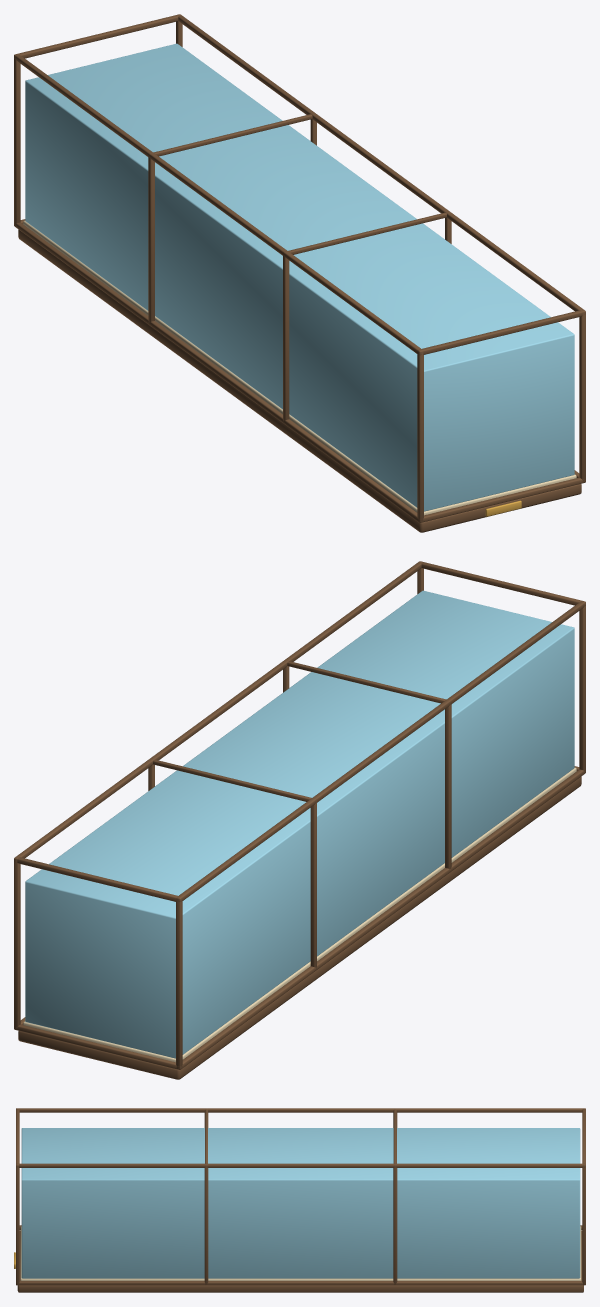
Rendered from long-tank.glb.
The picture shows the model from 3 angles, top to bottom: view 1: azimuth 30°, elevation 25°; view 2: azimuth 150°, elevation 25°; view 3: azimuth 270°, elevation 25°; orthographic projection. The views are drawn at different scales.
Parts seen in each view (by area): view 1: water, frame; view 2: water, frame; view 3: water, frame.
Boxes of the visible parts, box(x1,y1,x2,y2) form: water: box(23, 43, 576, 515); frame: box(14, 14, 585, 532); water: box(23, 590, 576, 1062); frame: box(14, 561, 585, 1079); water: box(20, 1128, 581, 1280); frame: box(14, 1108, 585, 1292).
Size of the model in its own units: 1.42 by 1.5 by 6.01.
